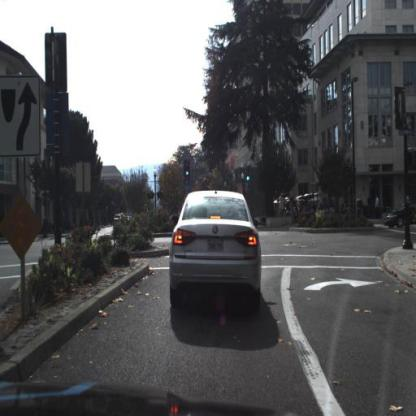car: (169, 190, 261, 314), (385, 198, 416, 234)
pedestrian: (158, 201, 166, 215)
trafficLight-Green: (184, 159, 193, 182), (246, 165, 252, 186)
trafficLight-Red: (185, 162, 190, 183)
